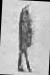M18: (3, 0, 48, 74)
